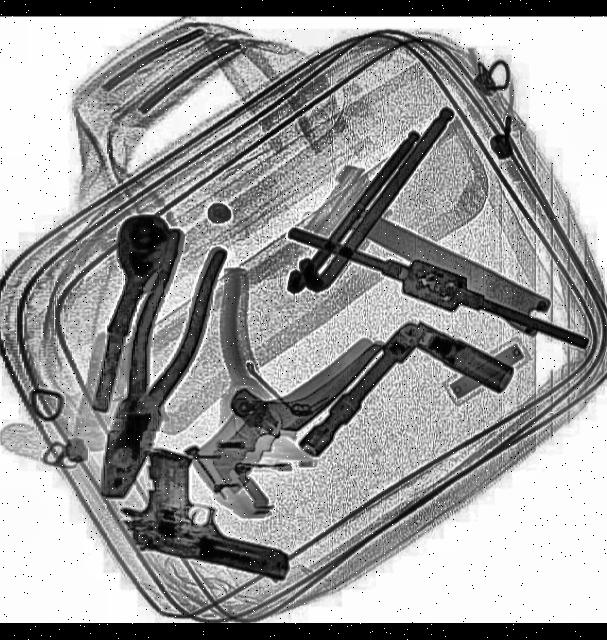Gun: (110, 444, 304, 587)
Pliers: (80, 226, 228, 512)
